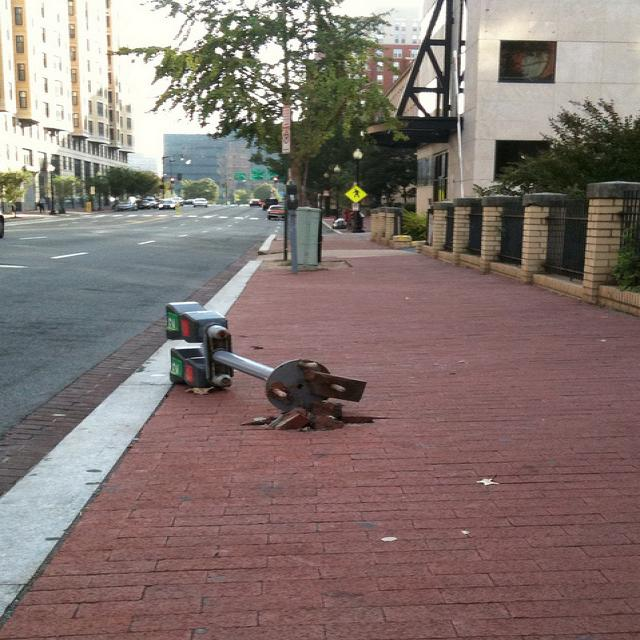Vehicle: (115, 198, 139, 212), (267, 204, 286, 220), (190, 197, 208, 208), (159, 199, 177, 210), (138, 200, 151, 208)
